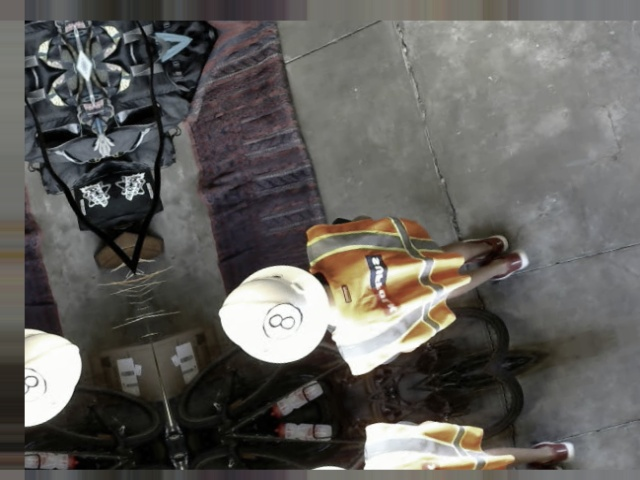eight: (255, 296, 307, 346)
